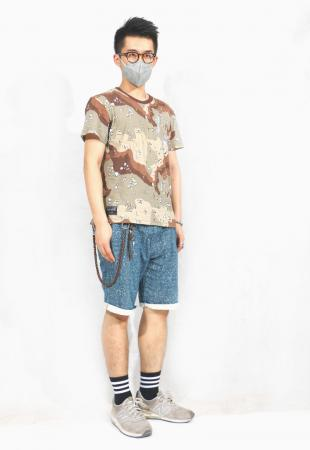face_mask: (121, 35, 153, 87)
